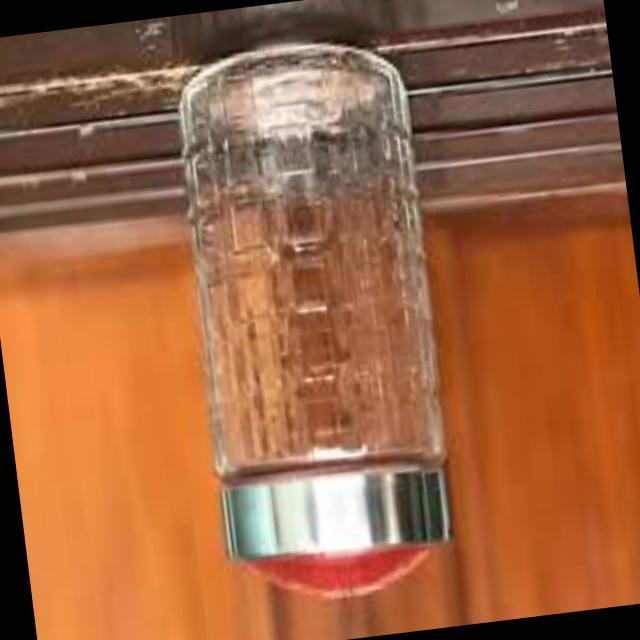ToplesKaca: (160, 29, 470, 617)
